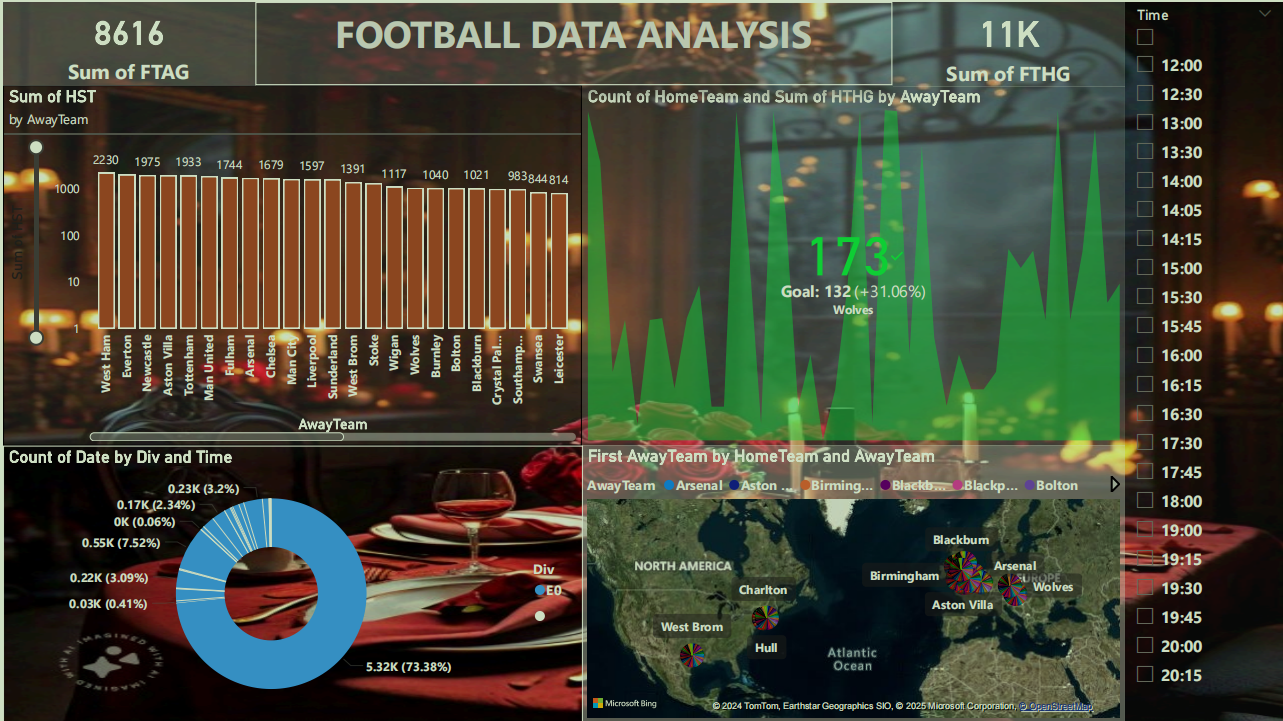

Layout of this report page (visuals, bound fields, positions):
{"tool":"powerbi","page":{"name":"Page 1","canvas":[1280,720],"ordinal":0},"visuals":[{"type":"clusteredColumnChart","fields":{"Category":["Football Data Test Task.AwayTeam"],"Y":["Sum(Football Data Test Task.HST)"]},"box":[0,83.4,577.9,359.5],"z":0},{"type":"donutChart","fields":{"Y":["CountNonNull(Football Data Test Task.Date)"],"Category":["Football Data Test Task.Div"],"Series":["Football Data Test Task.Time"]},"box":[0,442.9,578.5,277],"z":1},{"type":"slicer","fields":{"Values":["Football Data Test Task.Time"]},"box":[1120.3,0,159.5,720.2],"z":2},{"type":"kpi","fields":{"Indicator":["CountNonNull(Football Data Test Task.HomeTeam)"],"TrendLine":["Football Data Test Task.AwayTeam"],"Goal":["Sum(Football Data Test Task.HTHG)"]},"box":[578.5,83.7,541,359.2],"z":3},{"type":"map","fields":{"Category":["Football Data Test Task.HomeTeam"],"Series":["Football Data Test Task.AwayTeam"]},"box":[579,443,541,277],"z":4},{"type":"card","fields":{"Values":["Sum(Football Data Test Task.FTAG)"]},"box":[0,0,251.5,83.4],"z":5},{"type":"card","fields":{"Values":["Sum(Football Data Test Task.FTHG)"]},"box":[888.7,0,230.8,83.7],"z":6},{"type":"textbox","box":[251.5,0,636.8,83.4],"z":7}]}

Visuals, with their boxes in screenshot pixels (x1, y1, x2, y2), scaled from the page's 1280x720 canvas onto the 1283x721 screenshot:
clusteredColumnChart - Football Data Test Task.AwayTeam x Sum(Football Data Test Task.HST): {"left": 0, "top": 84, "right": 579, "bottom": 444}
donutChart - CountNonNull(Football Data Test Task.Date) x Football Data Test Task.Div: {"left": 0, "top": 444, "right": 580, "bottom": 720}
slicer - Football Data Test Task.Time: {"left": 1123, "top": 0, "right": 1282, "bottom": 720}
kpi - CountNonNull(Football Data Test Task.HomeTeam) x Football Data Test Task.AwayTeam: {"left": 580, "top": 84, "right": 1122, "bottom": 444}
map - Football Data Test Task.HomeTeam x Football Data Test Task.AwayTeam: {"left": 580, "top": 444, "right": 1123, "bottom": 720}
card - Sum(Football Data Test Task.FTAG): {"left": 0, "top": 0, "right": 252, "bottom": 84}
card - Sum(Football Data Test Task.FTHG): {"left": 891, "top": 0, "right": 1122, "bottom": 84}
textbox: {"left": 252, "top": 0, "right": 890, "bottom": 84}
